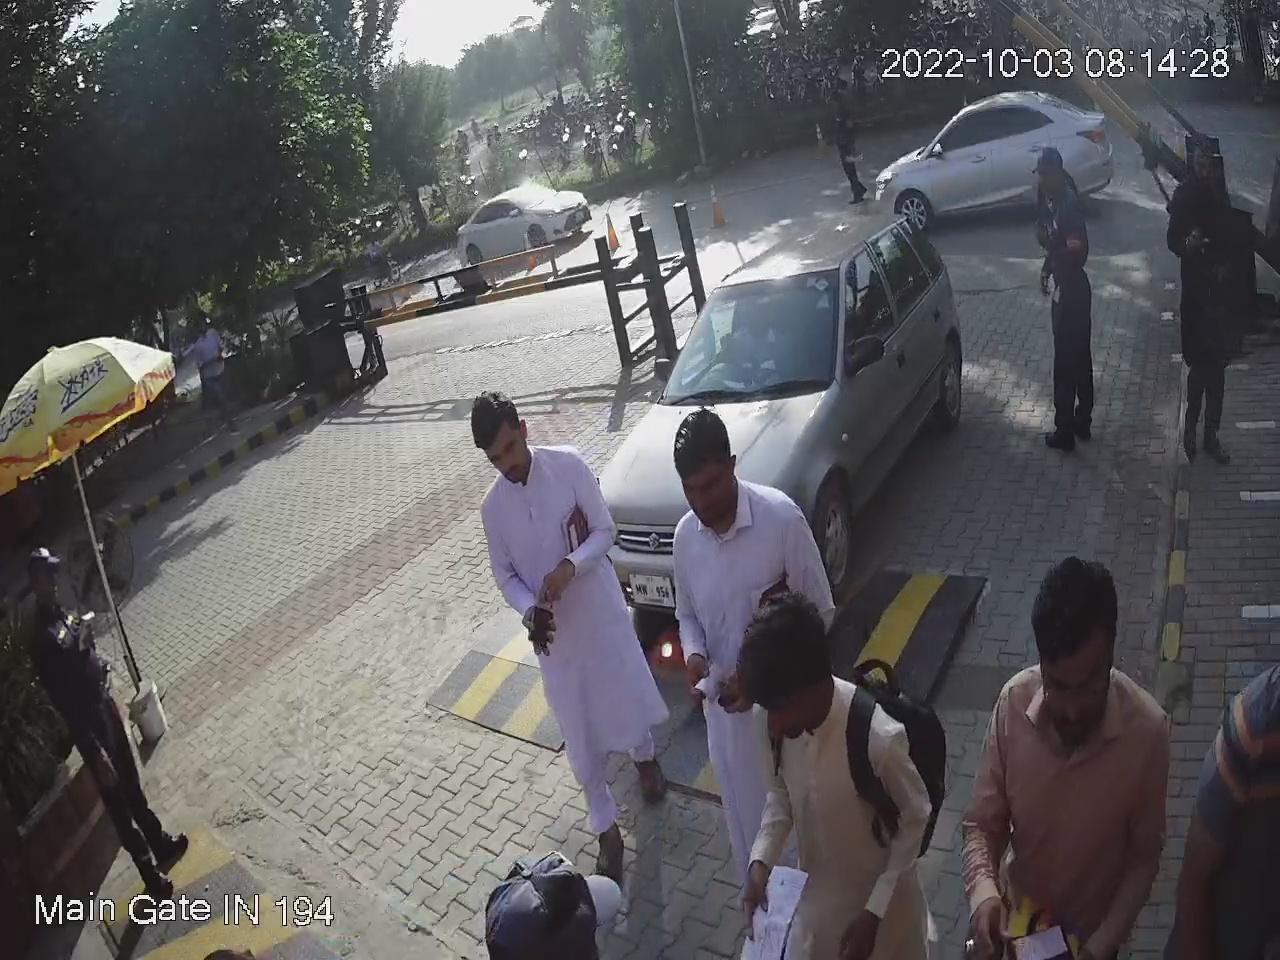windshield: (660, 260, 841, 395)
